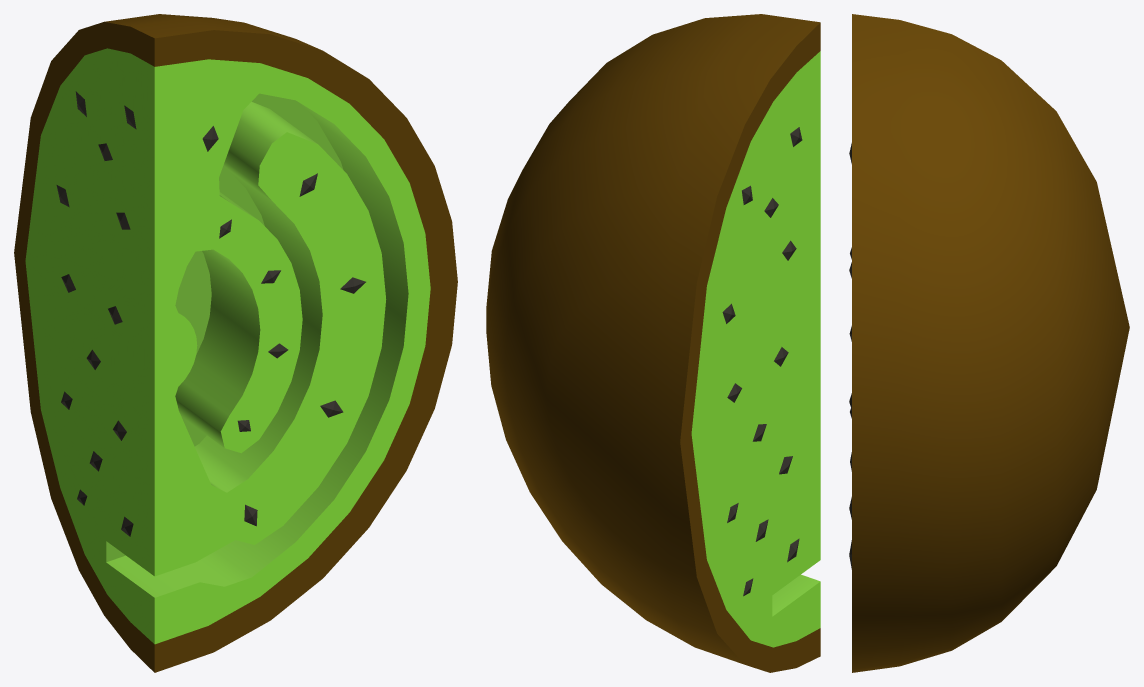
File: kiwiT.fbx
3 renders of one model, left to right at view 1: azimuth 30°, elevation 25°; view 2: azimuth 150°, elevation 25°; view 3: azimuth 270°, elevation 25°, orthographic.
Parts seen in each view (by area): view 1: Object8241, Object8244, Object8243, Object8242, Hedra033, Hedra009; view 2: Object8243, Object8241, Object8242, Hedra033, Object8244; view 3: Object8243.
Part boxes in pixels (x1,y1,x2,y2): Object8241: (25,48,430,644); Object8244: (106,93,408,597); Object8243: (14,14,457,672); Object8242: (21,39,438,652); Hedra033: (56,91,136,536); Hedra009: (202,126,365,526); Object8243: (486,14,820,672); Object8241: (691,51,820,647); Object8242: (688,43,820,656); Hedra033: (722,127,802,596); Object8244: (772,574,820,616); Object8243: (852,14,1129,672).
Size of the model in its own units: 14551 by 28844 by 11705.
